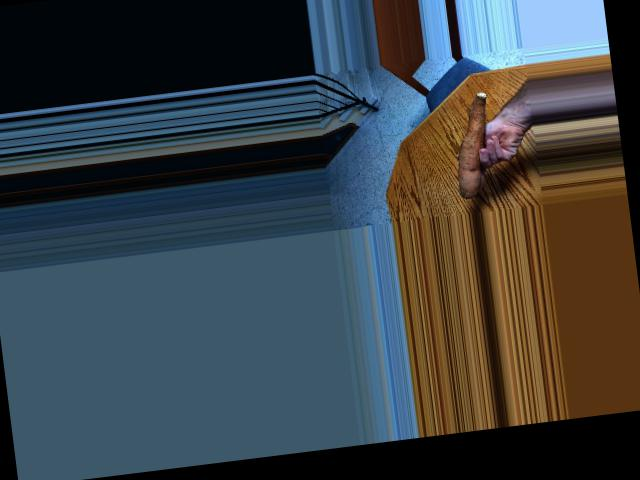sweet_potato: (444, 89, 503, 196)
